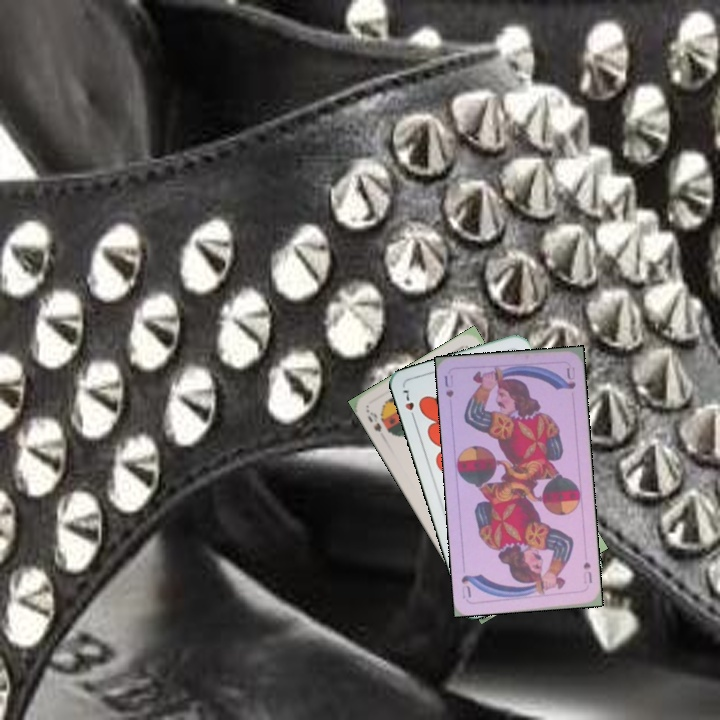H7: (399, 386, 419, 424)
SO: (362, 406, 384, 434)
SU: (440, 371, 456, 400), (579, 558, 595, 586)
